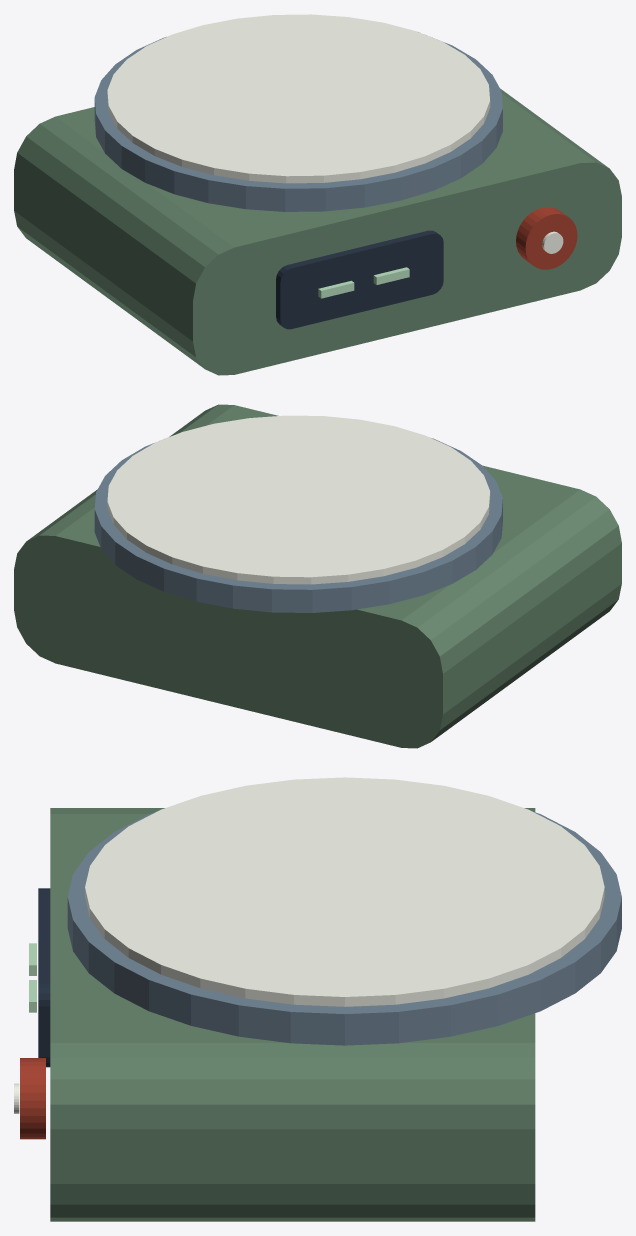
The model's file is scale.glb.
3 views of the same model, one above another, from view 1: azimuth 30°, elevation 25°; view 2: azimuth 150°, elevation 25°; view 3: azimuth 270°, elevation 25° (orthographic). The views are drawn at different scales.
Parts seen in each view (by area): view 1: base, plate face, weighing plate, screen, tare key; view 2: base, plate face, weighing plate; view 3: base, plate face, weighing plate, screen, tare key.
Part boxes in pixels (x1,y1,x2,y2): base: (14,32,621,375); plate face: (107,14,490,183); weighing plate: (94,35,502,211); screen: (276,230,443,329); tare key: (516,207,577,269); base: (14,404,621,748); plate face: (107,415,490,584); weighing plate: (94,438,502,612); base: (50,808,535,1221); plate face: (85,777,604,1006); weighing plate: (67,811,621,1045); screen: (38,888,50,1067); tare key: (20,1058,45,1139).
Bounding box in the file's own units: 1.55 × 0.545 × 1.4.
